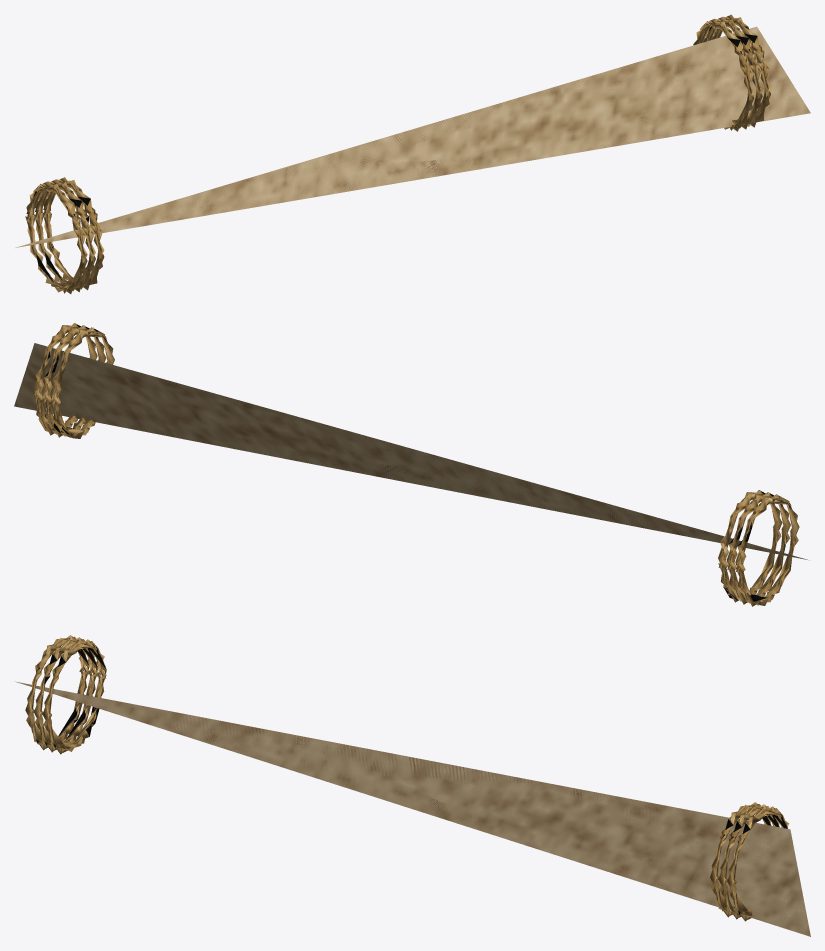
The model's file is wrapped-roll_low.fbx.
3 views of the same model, one above another, from view 1: azimuth 30°, elevation 25°; view 2: azimuth 150°, elevation 25°; view 3: azimuth 330°, elevation 25° (orthographic). The views are drawn at different scales.
Visible parts, largest first — view 1: wrapped-roll; view 2: wrapped-roll; view 3: wrapped-roll.
Boxes of the visible parts, box(x1,y1,x2,y2) form: wrapped-roll: box(15, 14, 810, 293); wrapped-roll: box(14, 323, 807, 606); wrapped-roll: box(15, 635, 810, 936).
Bounding box in the file's own units: 37.52 × 4.8 × 4.8.
Materials: 2 (2 with a texture image).
